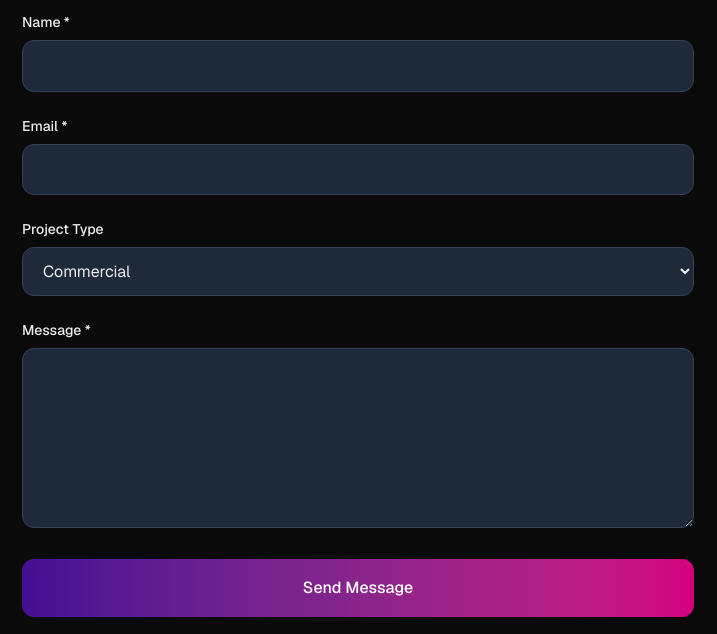
Test: ContactForm › shows loading state during submission
The image size is (717, 634).
In the field labelled "Name *": (358, 66) [22,40,694,92], type "John Doe"
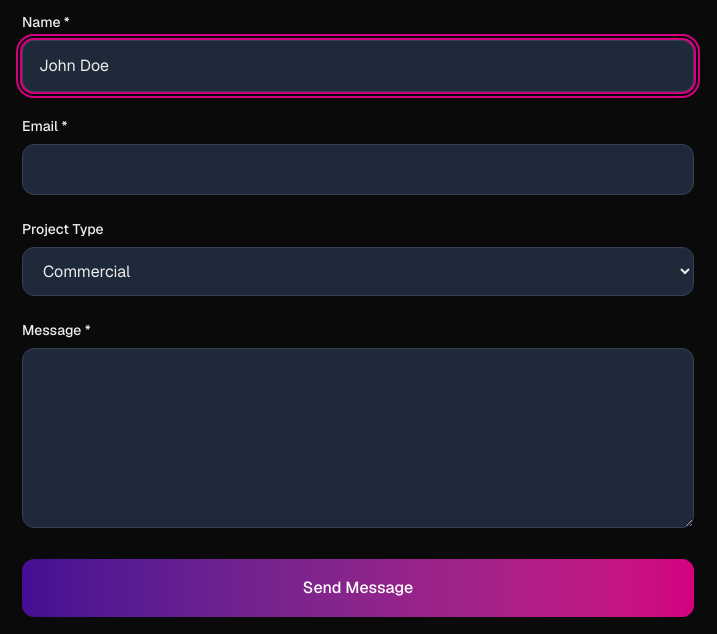
In the field labelled "Email *": (358, 169) [22,144,694,195], type "john@example.com"
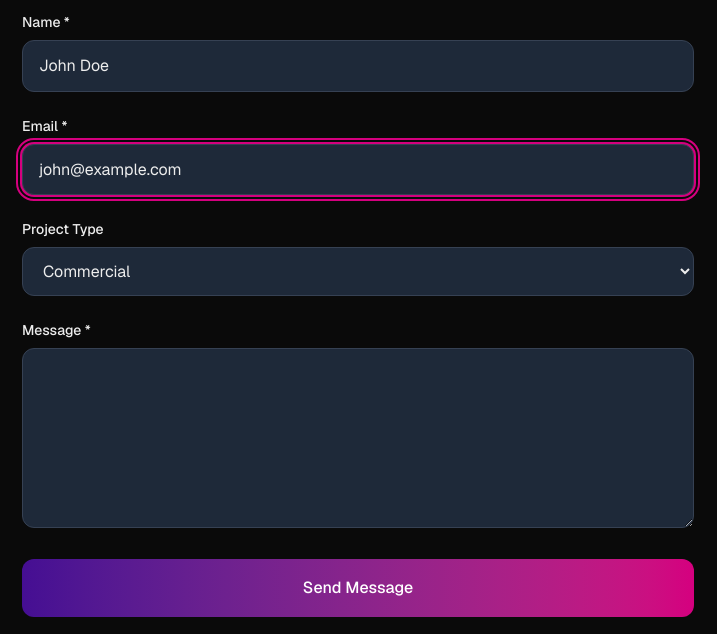
In the text box labelled "Message *": (358, 438) [22,348,694,528], type "This is a test message"
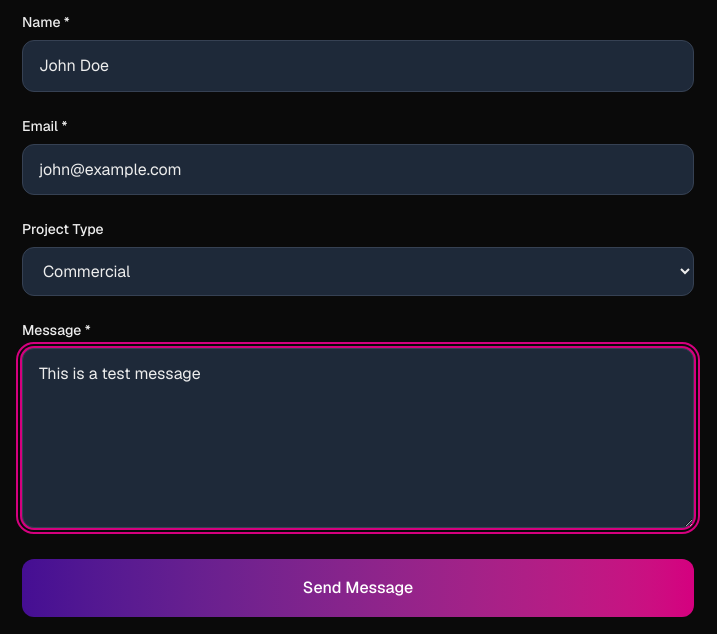
Click the button "Send Message": (358, 588) [22,559,694,617]
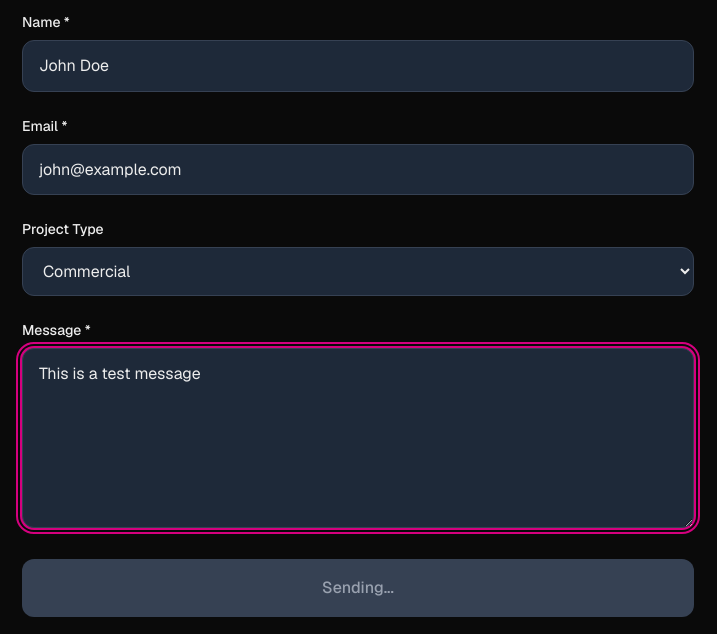
expect the button "Sending..." is disabled: met, box [22,559,694,617]
